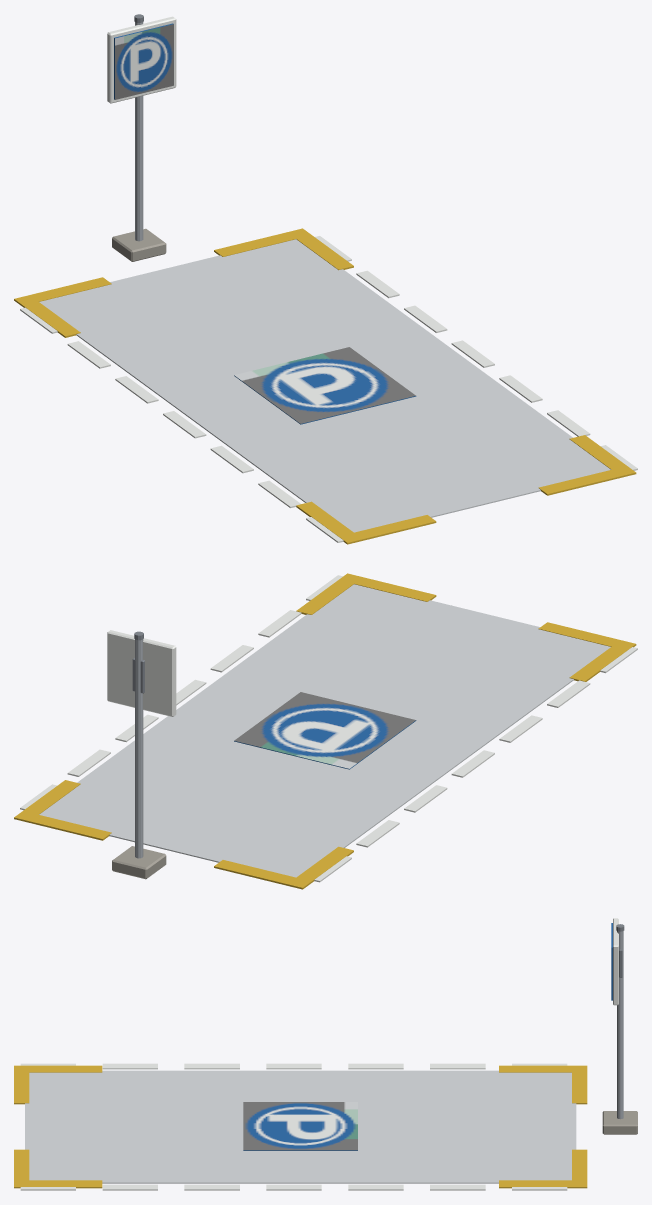
File: Vaga.fbx
The picture shows the model from 3 angles, top to bottom: view 1: azimuth 30°, elevation 25°; view 2: azimuth 150°, elevation 25°; view 3: azimuth 270°, elevation 25°; orthographic projection. The views are drawn at different scales.
Visible parts, largest first — view 1: Vaga, Placa, LinhaEsq, Poste, LinhaDir; view 2: Vaga, Placa, Poste, LinhaEsq, LinhaDir; view 3: Vaga, LinhaDir, LinhaEsq, Poste, Placa.
Boxes of the visible parts, x1,y1,x2,y2 form: Vaga: [14, 228, 636, 544]; Placa: [107, 16, 176, 103]; LinhaEsq: [20, 307, 343, 542]; Poste: [112, 14, 166, 261]; LinhaDir: [315, 236, 637, 470]; Vaga: [14, 573, 636, 889]; Placa: [107, 630, 176, 716]; Poste: [112, 631, 166, 879]; LinhaEsq: [314, 647, 637, 882]; LinhaDir: [20, 575, 342, 810]; Vaga: [14, 1065, 587, 1188]; LinhaDir: [20, 1184, 567, 1190]; LinhaEsq: [20, 1063, 567, 1069]; Poste: [602, 924, 637, 1134]; Placa: [611, 918, 622, 1005].
Size of the model in its own units: 2.7 by 2.02 by 5.66.
Materials: 1 (1 with a texture image).
